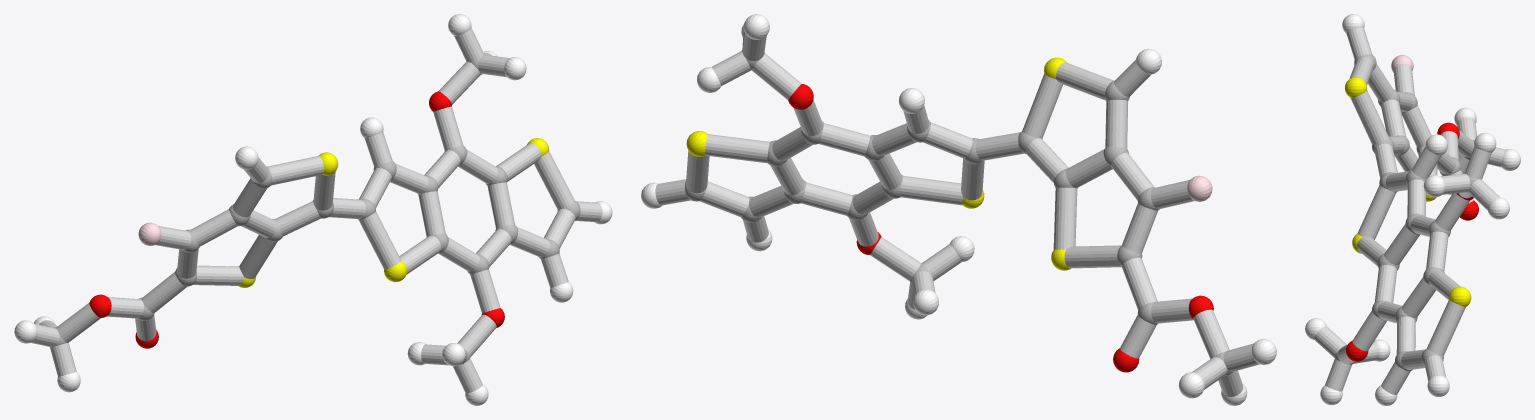
Rendered from Dimethoxy_Benzodithiophene_Phi_5_Theta_300_Methylcarbonyl_3_Fluoro_Thienothiophene.glb.
The picture shows the model from 3 angles, left to right: view 1: azimuth 30°, elevation 25°; view 2: azimuth 150°, elevation 25°; view 3: azimuth 270°, elevation 25°; orthographic projection. The views are drawn at different scales.
Parts seen in each view (by area): view 1: grp15205, grp8689, grp1, grp13395, grp7241; view 2: grp15205, grp8689, grp1, grp13395, grp7241; view 3: grp15205, grp8689, grp1, grp7241, grp13395, grp14843.
Part boxes in pixels (x1,y1,x2,y2): grp15205: (31, 27, 602, 393); grp8689: (14, 14, 612, 405); grp1: (50, 53, 580, 366); grp13395: (89, 91, 504, 348); grp7241: (238, 138, 549, 287); grp15205: (655, 32, 1259, 396); grp8689: (641, 14, 1276, 405); grp1: (685, 49, 1232, 376); grp13395: (788, 84, 1213, 372); grp7241: (686, 57, 1070, 270); grp15205: (1314, 27, 1505, 394); grp8689: (1305, 14, 1520, 405); grp1: (1334, 54, 1477, 371); grp7241: (1345, 77, 1471, 306); grp13395: (1346, 122, 1478, 361); grp14843: (1391, 55, 1413, 72).
Bounding box in the file's own units: 17.12 × 8.88 × 5.79.
